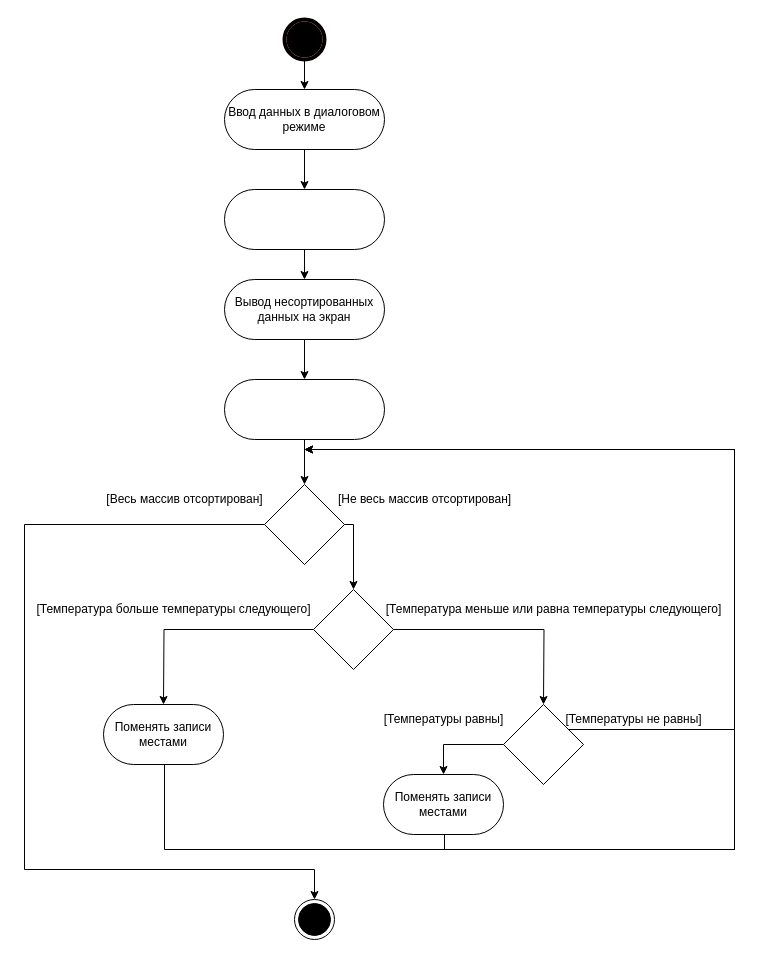
This 760x957 diagram has some shape labels left out. The centre of each missing label's shape, as x and y in pixels:
Вызов сортировки: [304,409]
Создание экземпляра класса WeatherControl: [304,219]
